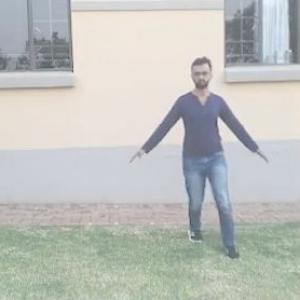land: (140, 57, 272, 231)
